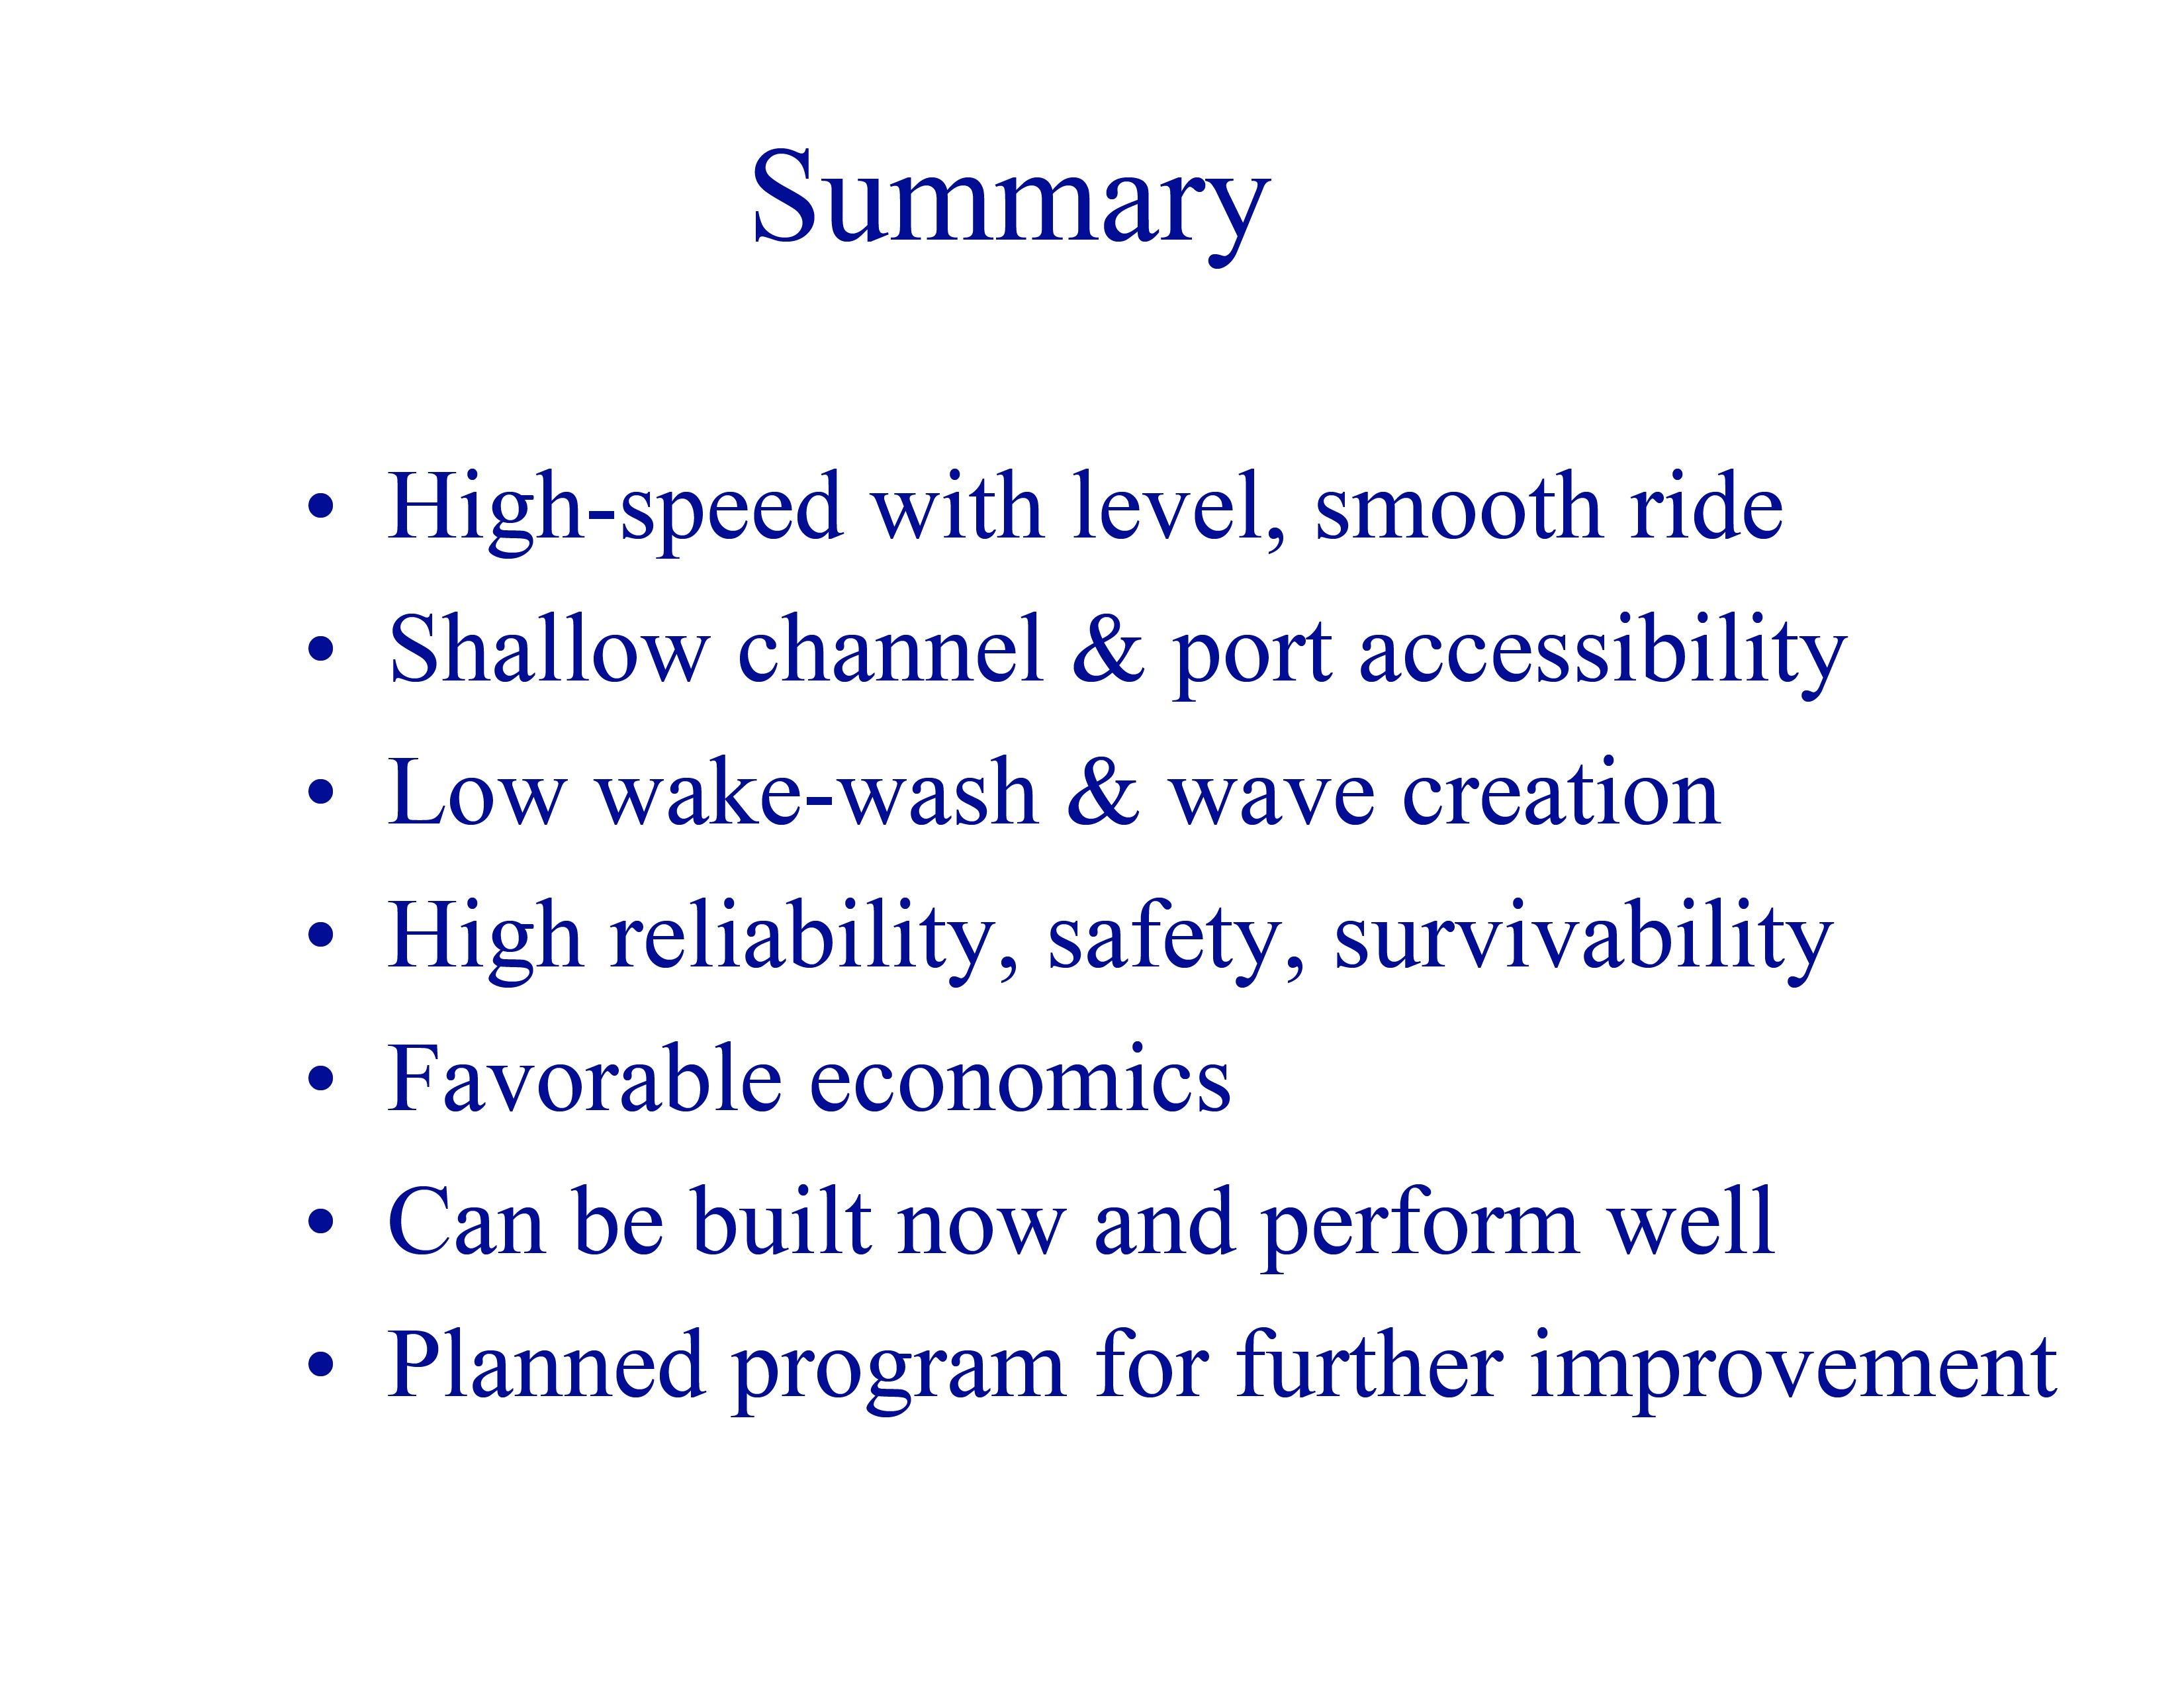list: (278, 429, 2092, 1411)
section: (730, 145, 1299, 273)
